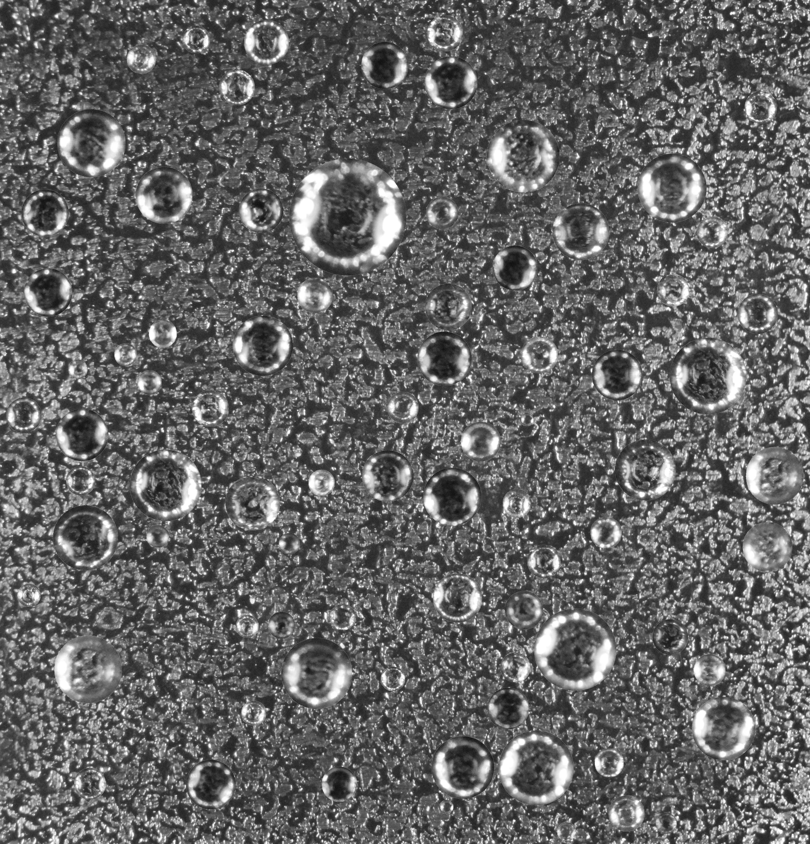Bubble: (289, 158, 406, 275), (534, 608, 616, 690), (669, 337, 746, 414), (498, 730, 573, 805), (487, 119, 559, 192), (129, 449, 201, 521), (281, 638, 352, 708), (637, 153, 706, 222), (57, 109, 125, 177), (54, 635, 121, 703), (52, 505, 117, 570), (692, 697, 755, 760), (431, 736, 494, 798), (615, 439, 675, 500), (232, 315, 292, 375), (423, 467, 481, 525), (746, 447, 803, 504), (135, 166, 192, 223), (552, 203, 609, 259), (225, 475, 279, 530), (417, 331, 471, 385), (55, 408, 108, 461), (424, 56, 477, 109), (362, 450, 413, 501), (592, 349, 642, 400), (186, 759, 235, 809), (742, 522, 792, 571), (433, 573, 482, 622), (23, 268, 72, 316), (361, 41, 408, 88), (21, 189, 68, 236), (425, 283, 471, 330), (492, 245, 537, 290), (244, 19, 288, 64), (238, 188, 283, 232), (487, 687, 528, 729), (737, 293, 777, 333), (461, 421, 500, 461), (505, 591, 543, 629), (521, 336, 557, 373), (192, 390, 228, 426), (608, 795, 644, 831), (427, 15, 463, 51), (219, 69, 254, 105), (297, 277, 332, 313), (652, 619, 688, 654), (321, 766, 356, 801), (6, 397, 41, 432), (527, 544, 560, 578), (744, 91, 777, 123), (426, 196, 458, 229), (657, 274, 689, 306), (387, 391, 418, 423), (696, 216, 728, 247), (74, 768, 105, 799), (590, 517, 621, 548), (694, 654, 725, 685), (500, 652, 530, 682), (594, 748, 623, 777), (66, 466, 95, 495), (126, 44, 155, 73), (502, 489, 531, 517), (148, 319, 176, 347), (182, 25, 209, 53), (268, 611, 295, 638), (329, 604, 355, 630), (308, 469, 334, 495), (380, 666, 405, 691), (241, 700, 266, 725), (137, 370, 161, 394), (17, 583, 40, 606), (235, 615, 258, 637), (114, 343, 136, 365), (146, 525, 168, 547), (655, 812, 676, 833), (278, 533, 299, 554), (557, 822, 576, 841), (68, 359, 87, 378), (439, 800, 453, 814), (520, 412, 533, 426)
